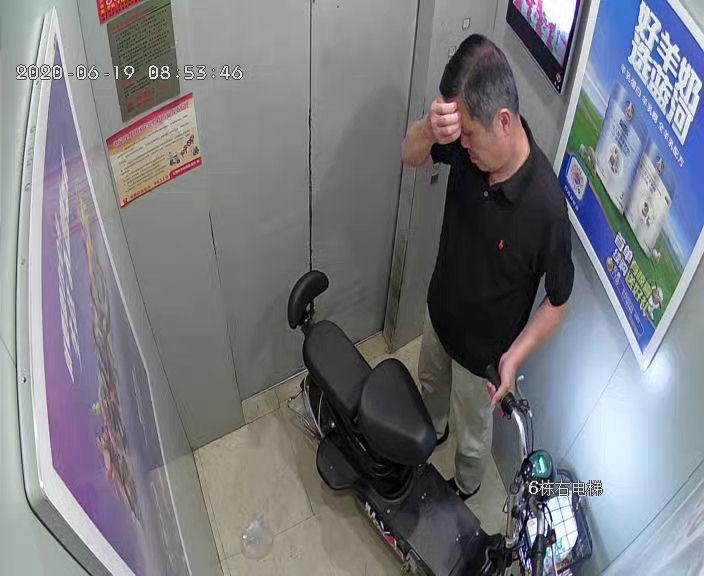Electric-bicycle: (287, 271, 595, 573)
